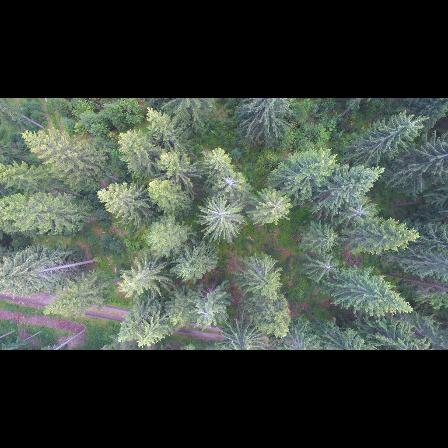Sick: (309, 256, 348, 282), (220, 170, 251, 196), (347, 198, 378, 224), (263, 191, 289, 214)
